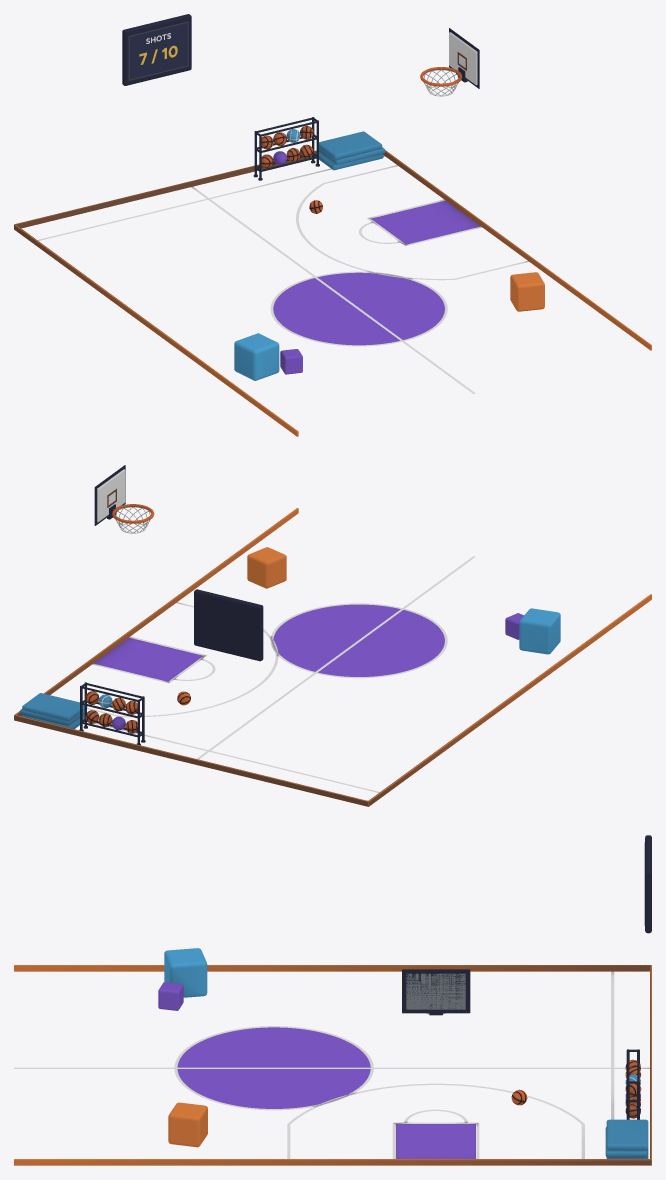
Rendered from play_props.glb.
The picture shows the model from 3 angles, top to bottom: view 1: azimuth 30°, elevation 25°; view 2: azimuth 150°, elevation 25°; view 3: azimuth 270°, elevation 25°; orthographic projection. The views are drawn at different scales.
Visible parts, largest first — view 1: room_static, scoreboard_screen, rack_balls, hoop_backboard; view 2: room_static, rack_balls, hoop_backboard; view 3: room_static, hoop_backboard, hoop_mount, rack_balls.
Boxes of the visible parts, left/top/right/bottom form: room_static: left=14, top=14, right=651, bottom=436; scoreboard_screen: left=129, top=23, right=187, bottom=79; rack_balls: left=261, top=125, right=313, bottom=168; hoop_backboard: left=449, top=32, right=477, bottom=85; room_static: left=14, top=508, right=651, bottom=806; rack_balls: left=85, top=691, right=137, bottom=733; hoop_backboard: left=97, top=469, right=125, bottom=522; room_static: left=14, top=835, right=651, bottom=1165; hoop_backboard: left=406, top=973, right=465, bottom=1009; hoop_mount: left=402, top=969, right=470, bottom=1015; rack_balls: left=625, top=1059, right=641, bottom=1118.
Bounding box in the file's own units: 9.4 × 4.41 × 13.
